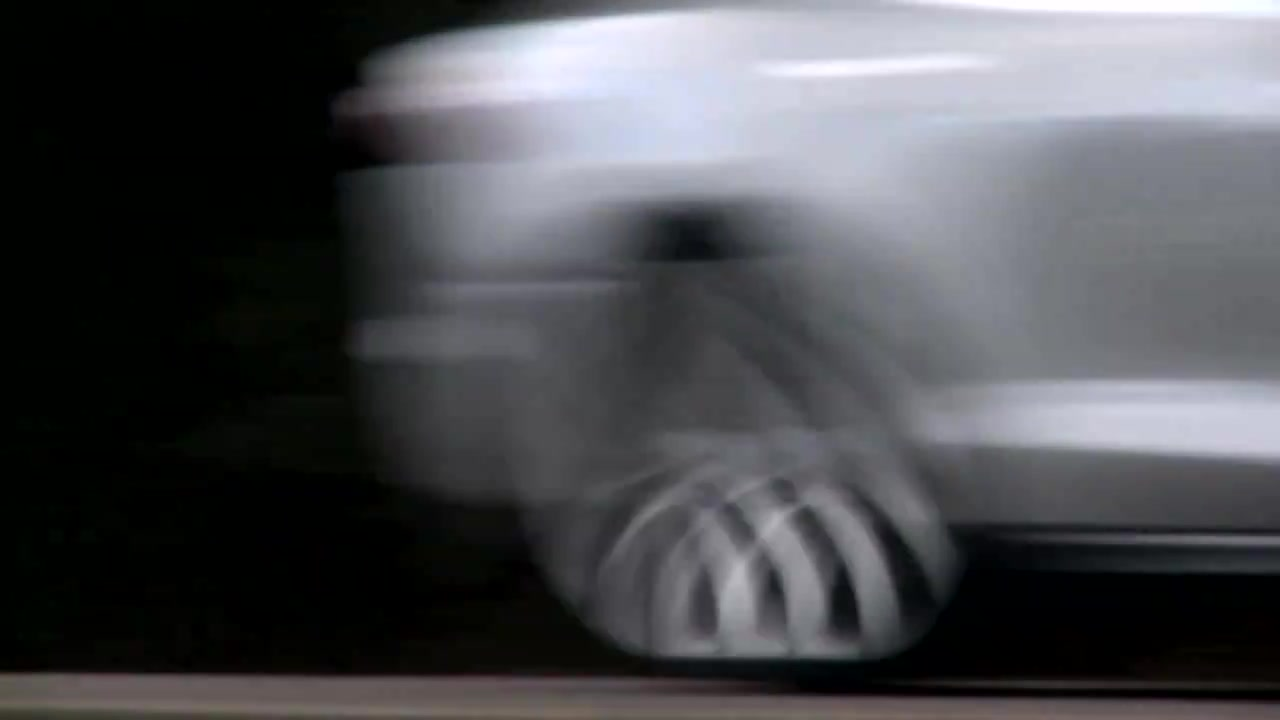car: (346, 1, 1280, 668)
